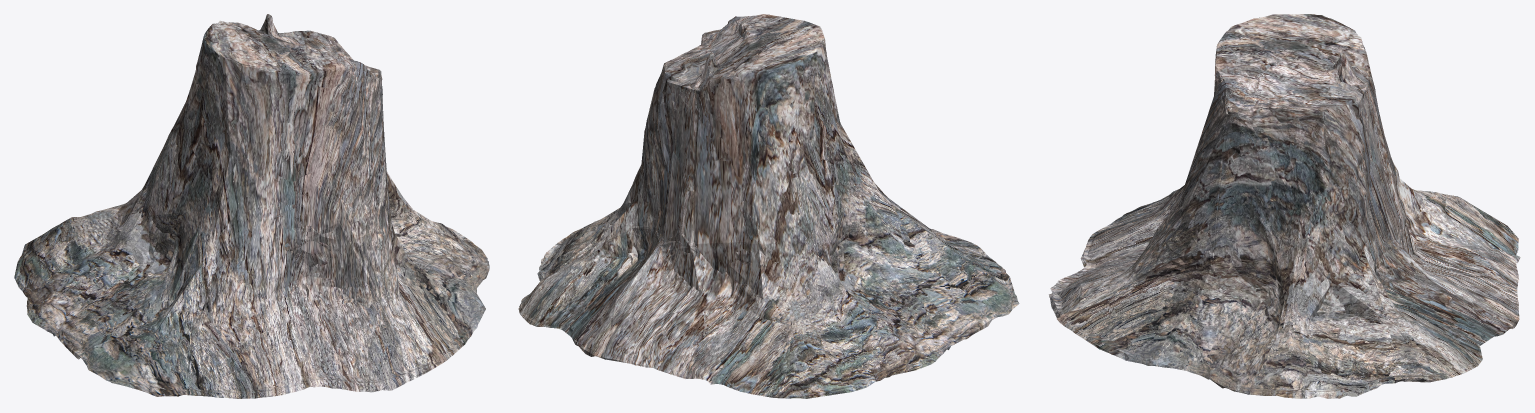
The model's file is Stump2.obj.
The picture shows the model from 3 angles, left to right: view 1: azimuth 30°, elevation 25°; view 2: azimuth 150°, elevation 25°; view 3: azimuth 270°, elevation 25°; orthographic projection.
Parts seen in each view (by area): view 1: default; view 2: default; view 3: default.
Boxes of the visible parts, x1,y1,x2,y2 form: default: (14,14,489,398); default: (518,14,1019,398); default: (1049,14,1520,398).
Bounding box in the file's own units: 394 × 239 × 383.
1 material, 1 textured.
